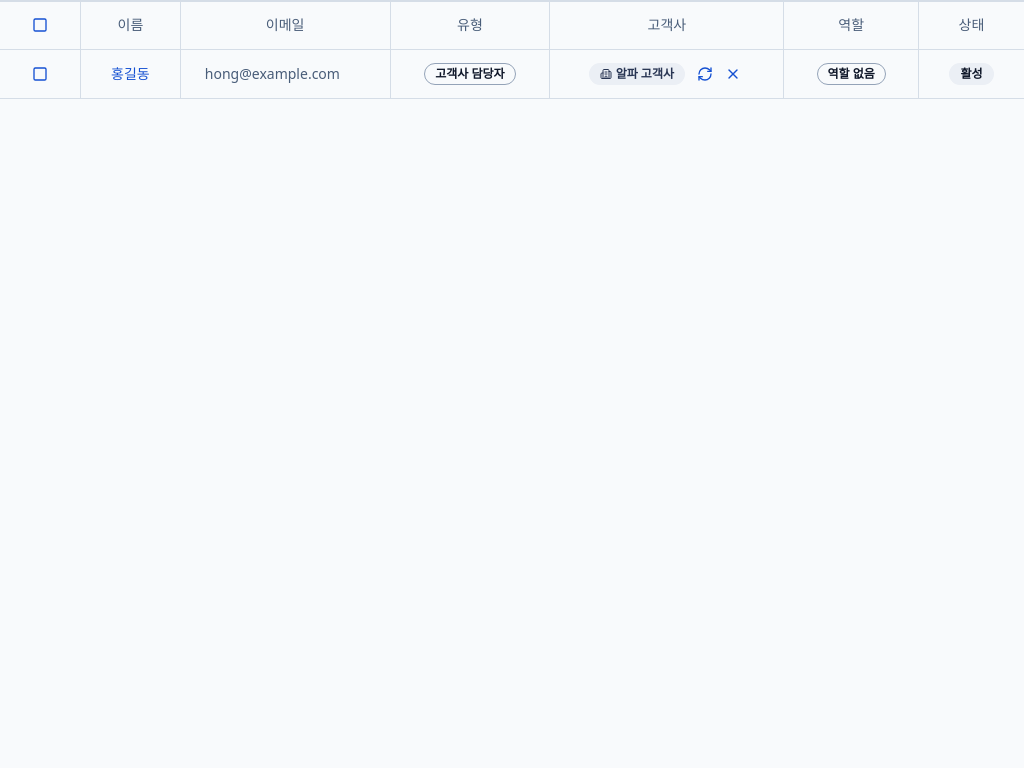
Scenario: UserTable — 소속 고객사 변경/해제 › 변경 목록에는 현재 고객사가 빠진다
Click the button named "홍길동 고객사 변경" at point(705, 74), box 693,62 -> 717,86
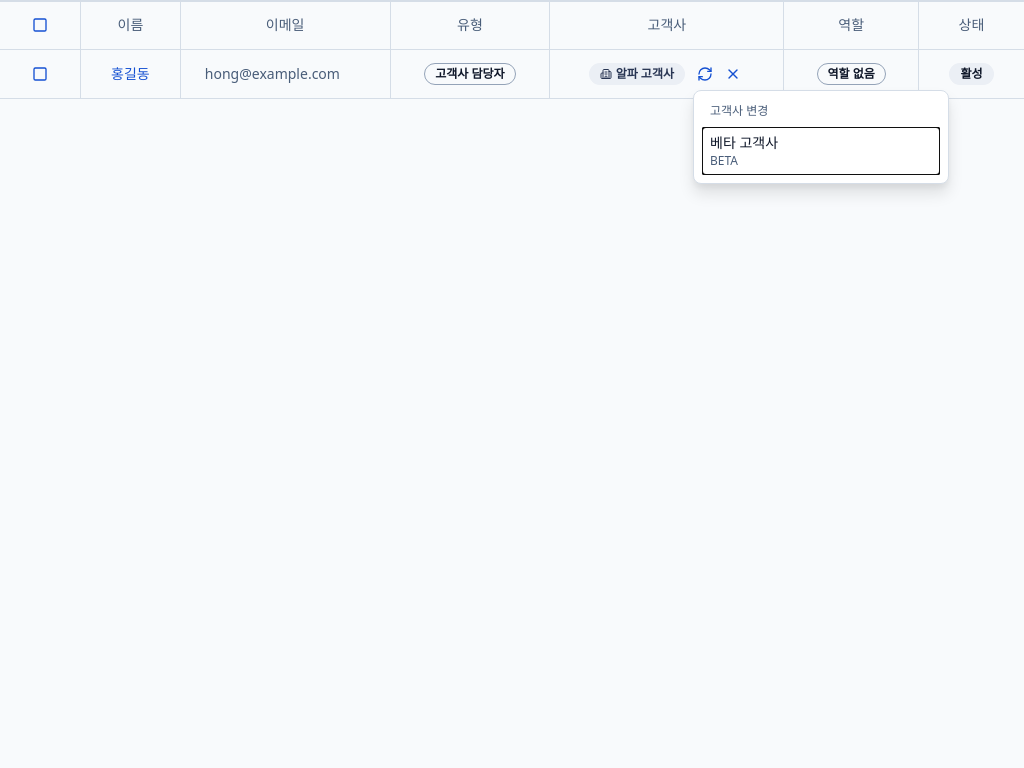
expect the text "알파 고객사" is shown once: met, box 589,62 -> 685,84
expect the text "고객사 변경" is shown: met, box 710,102 -> 768,119
expect the text "베타 고객사" is shown: met, box 710,133 -> 778,152
